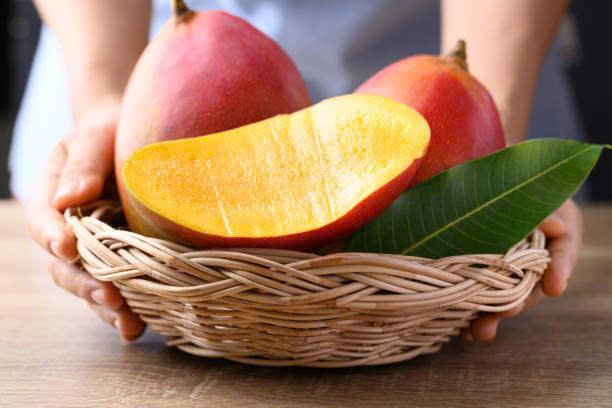mango: (128, 99, 430, 228)
